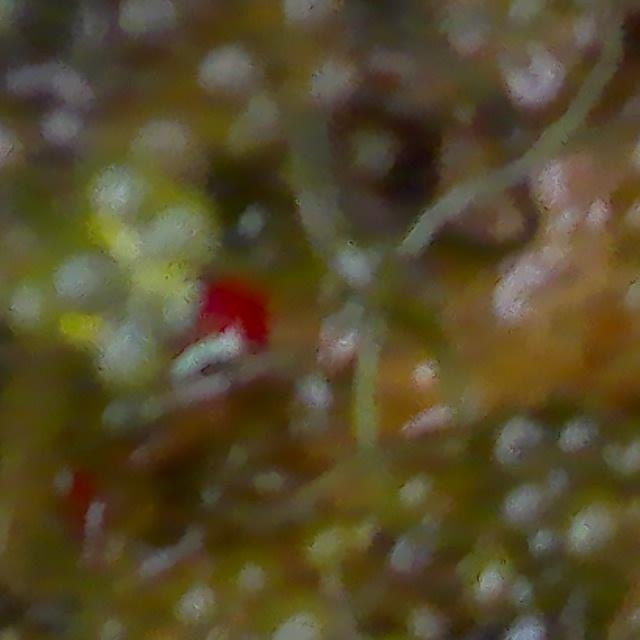SeaGrape: (374, 530, 444, 603), (455, 555, 521, 628), (119, 0, 187, 67), (192, 42, 266, 101), (301, 46, 366, 110), (262, 0, 339, 49)
